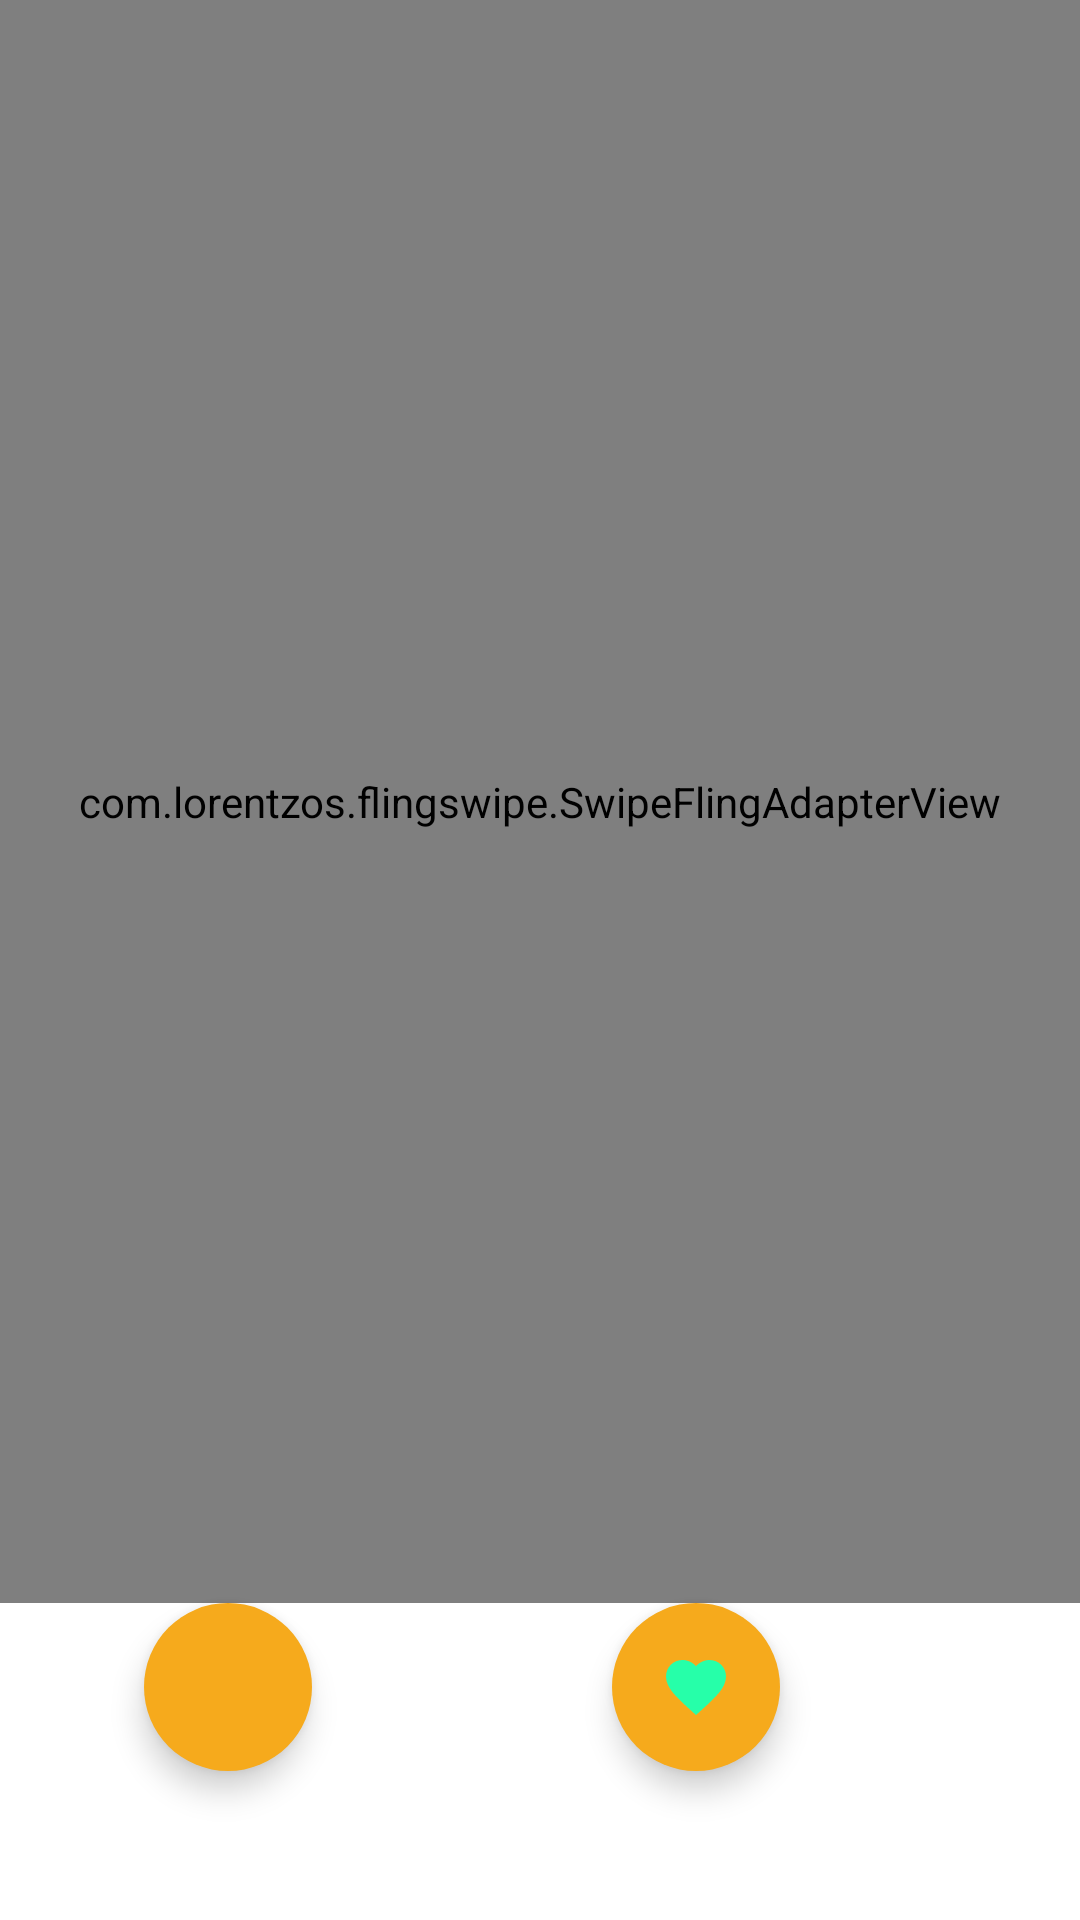

Icon bounding boxes for this 1080 x 1920 phone screenshot, format (x1, y1, x2, y2):
Like: (612, 1603, 780, 1771)
